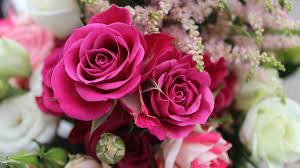lale: (38, 5, 156, 116), (138, 46, 231, 140)
